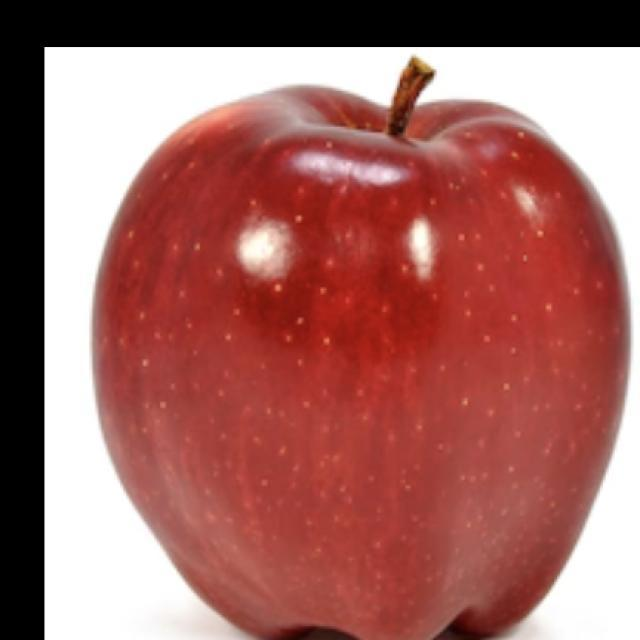Fresh Apple: (88, 82, 632, 640)
